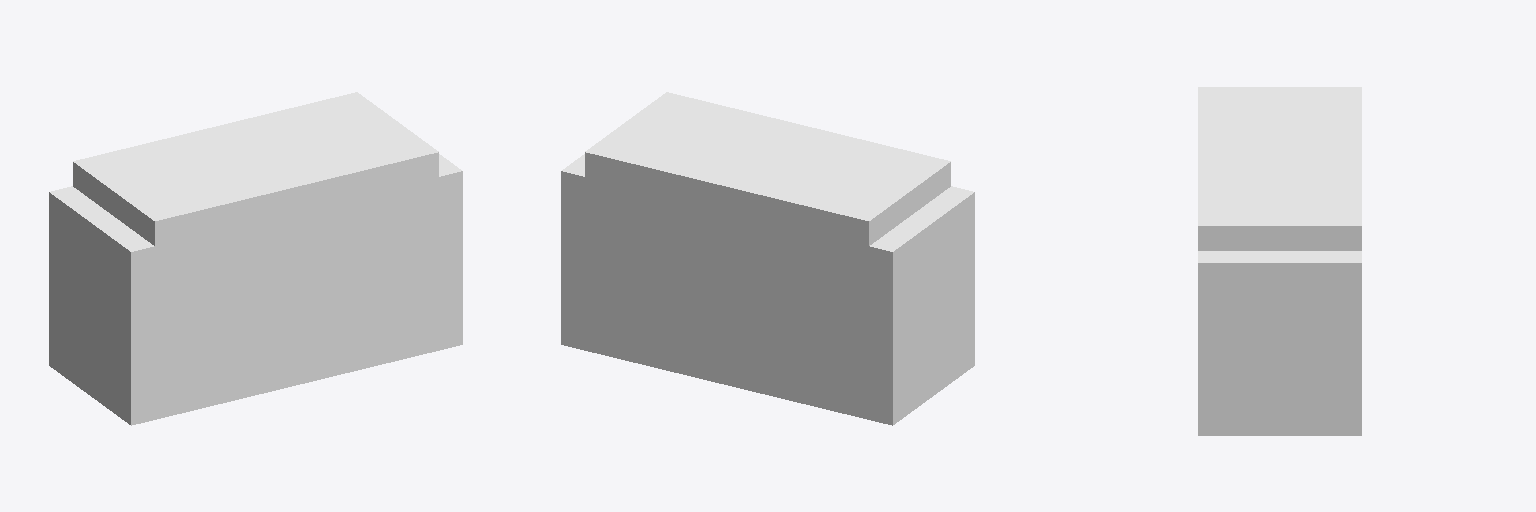
The model's file is timer.obj.
3 renders of one model, left to right at view 1: azimuth 30°, elevation 25°; view 2: azimuth 150°, elevation 25°; view 3: azimuth 270°, elevation 25°, orthographic.
Visible parts, largest first — view 1: timer; view 2: timer; view 3: timer.
Boxes of the visible parts, x1=… form: timer: x1=49, y1=92, x2=462, y2=425; timer: x1=561, y1=92, x2=974, y2=425; timer: x1=1198, y1=87, x2=1361, y2=435.
Size of the model in its own units: 14 by 8 by 6.